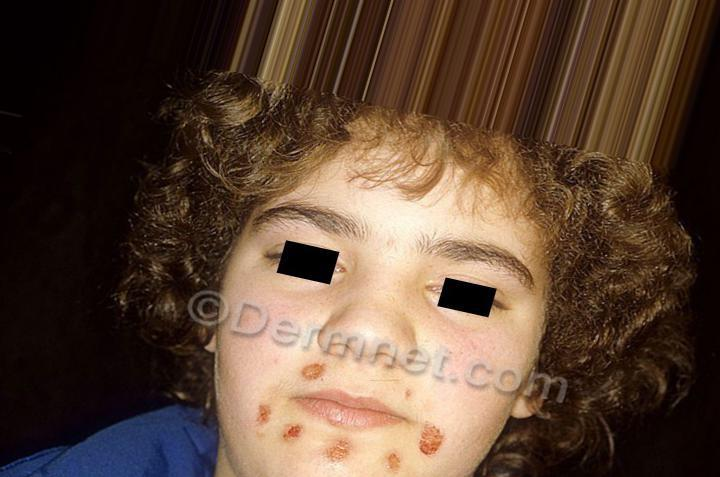Acne: (418, 416, 448, 461), (366, 232, 415, 255), (259, 348, 294, 379), (252, 403, 278, 438), (389, 385, 430, 407), (383, 448, 413, 477), (328, 435, 356, 466), (283, 413, 309, 445), (300, 366, 335, 379)
